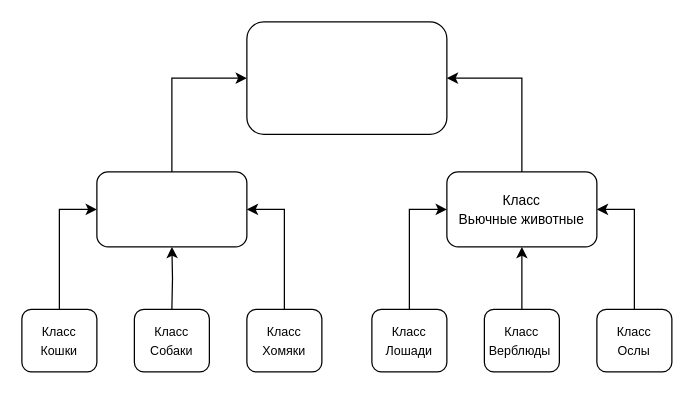
The diagram is 694 pixels wide and 394 high, and some of its shapes have lost their labels. The centre of each missing label's shape, as x and y in pixels:
Класс Домашние животные: pixel 171 209
Класс Друзья человека: pixel 346 77
